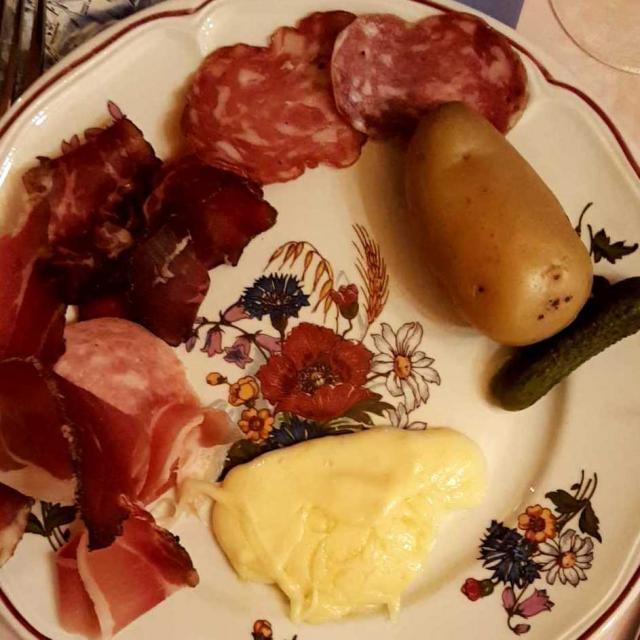cheese: (188, 431, 487, 617)
cucumber-pickled: (483, 267, 639, 431)
meat: (37, 19, 539, 616)
potatoes: (411, 110, 600, 344)
